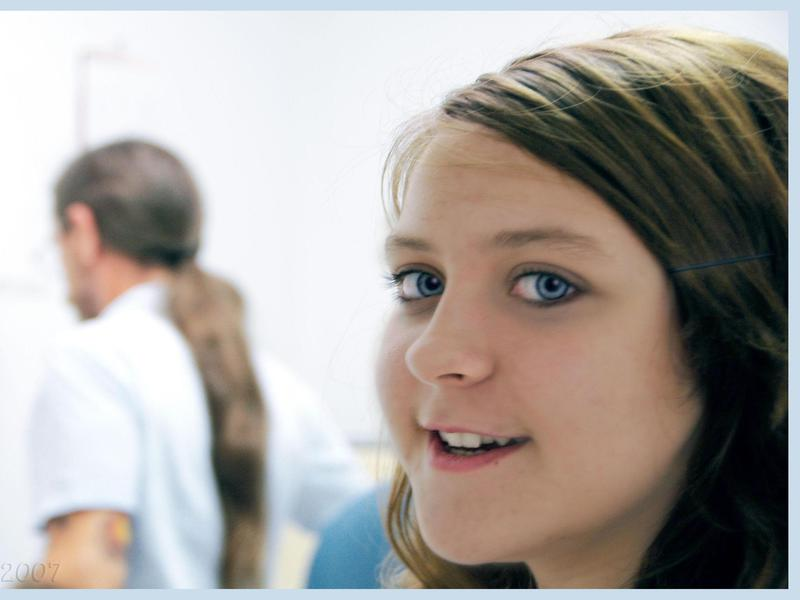person: (372, 21, 789, 586)
